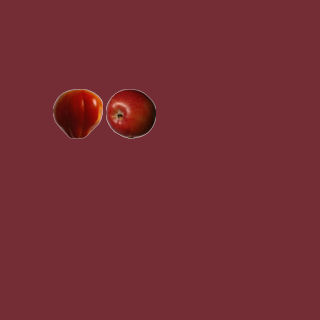Apple Braeburn: (105, 88, 155, 138)
Tomato 1: (52, 88, 102, 138)
